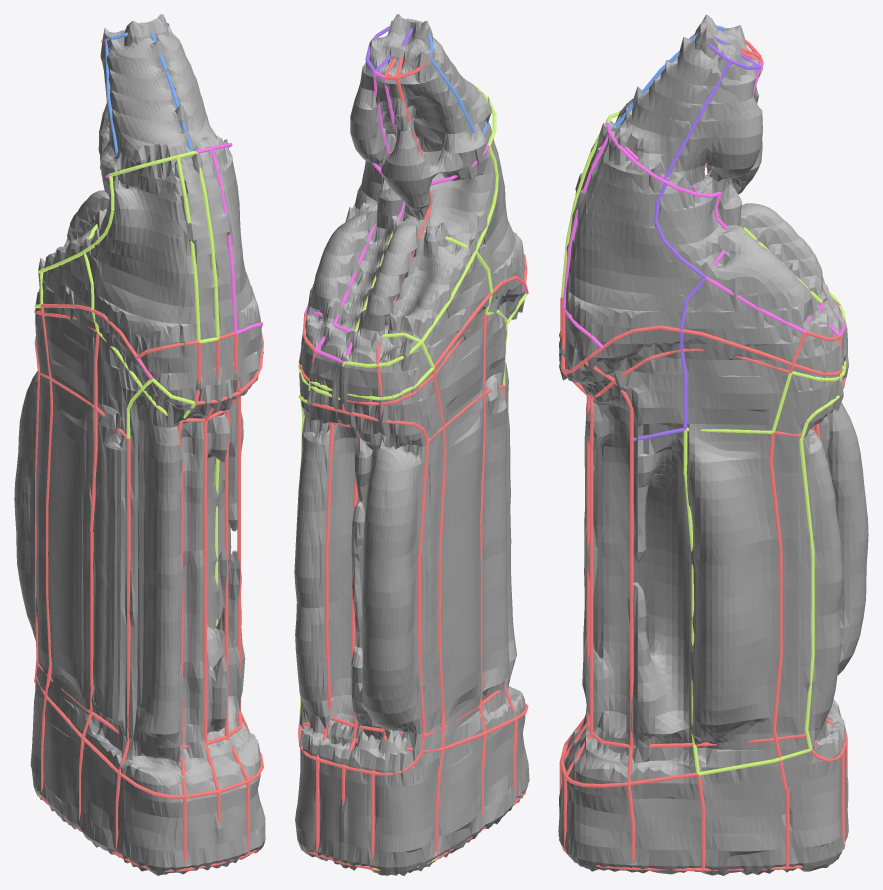
The model's file is flowrep_bottle.gltf.
3 views of the same model, side by side, from view 1: azimuth 30°, elevation 25°; view 2: azimuth 150°, elevation 25°; view 3: azimuth 270°, elevation 25° (orthographic). The views are drawn at different scales.
Size of the model in its own units: 0.2039 by 0.9619 by 0.3282.
